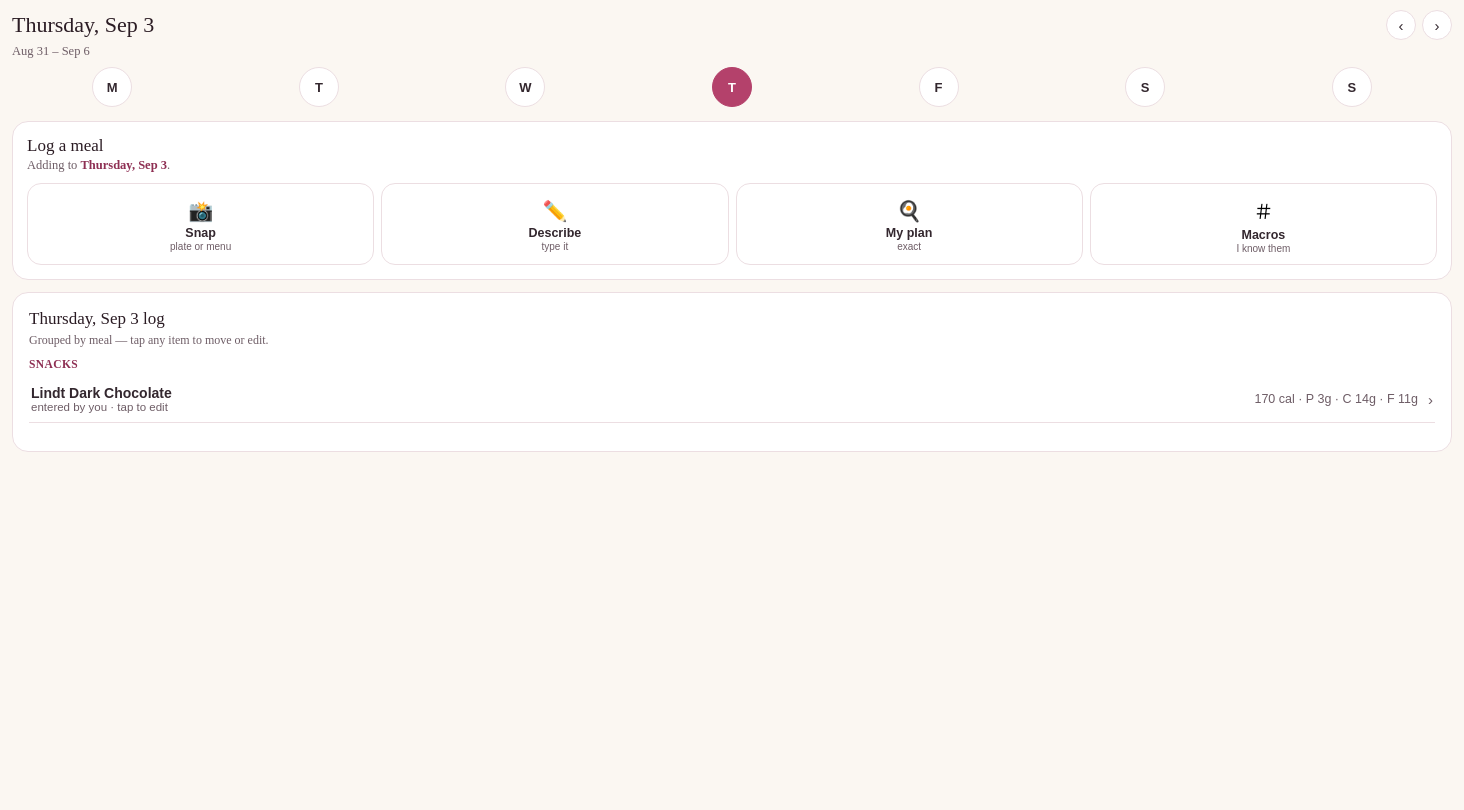
log save contract — edit Save › does not close the editor on a second tap while update is pending
The image size is (1464, 810).
Click the text "Lindt Dark Chocolate" at (101, 393), box [31,385,172,401]
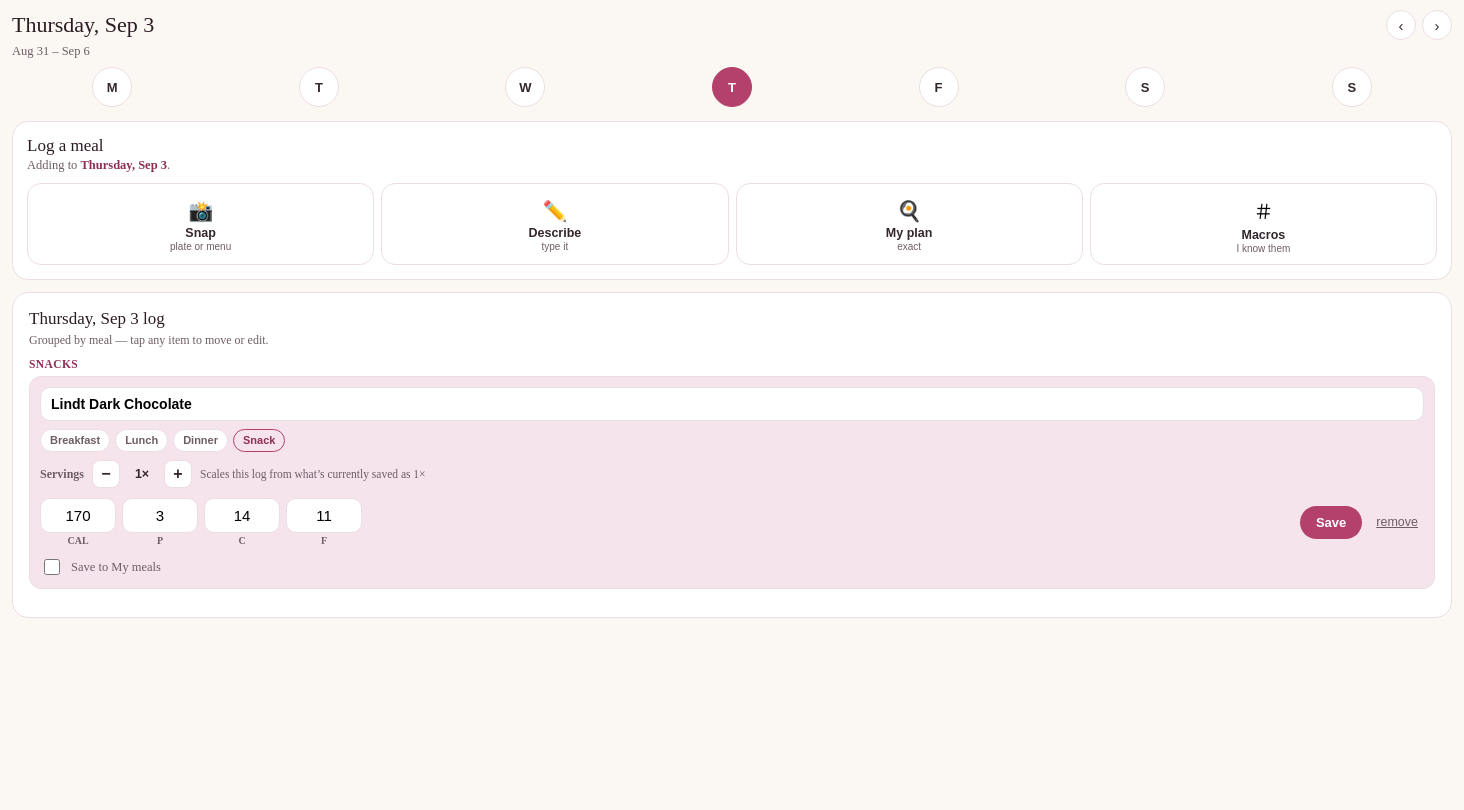
Click the button "Save" at (1331, 522), box [1300,506,1362,539]
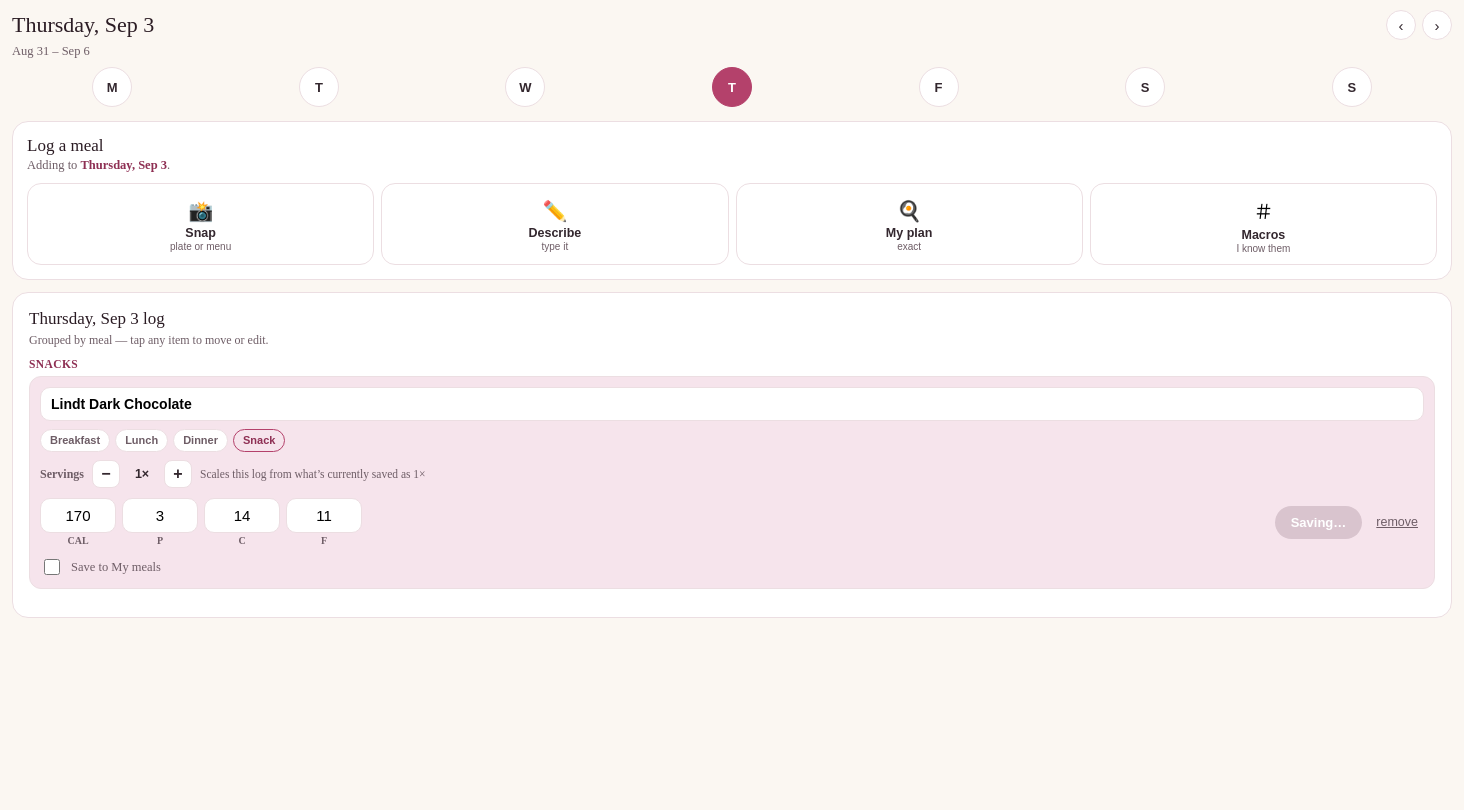
Click the button named "Save" at (1318, 522), box [1275,506,1362,539]
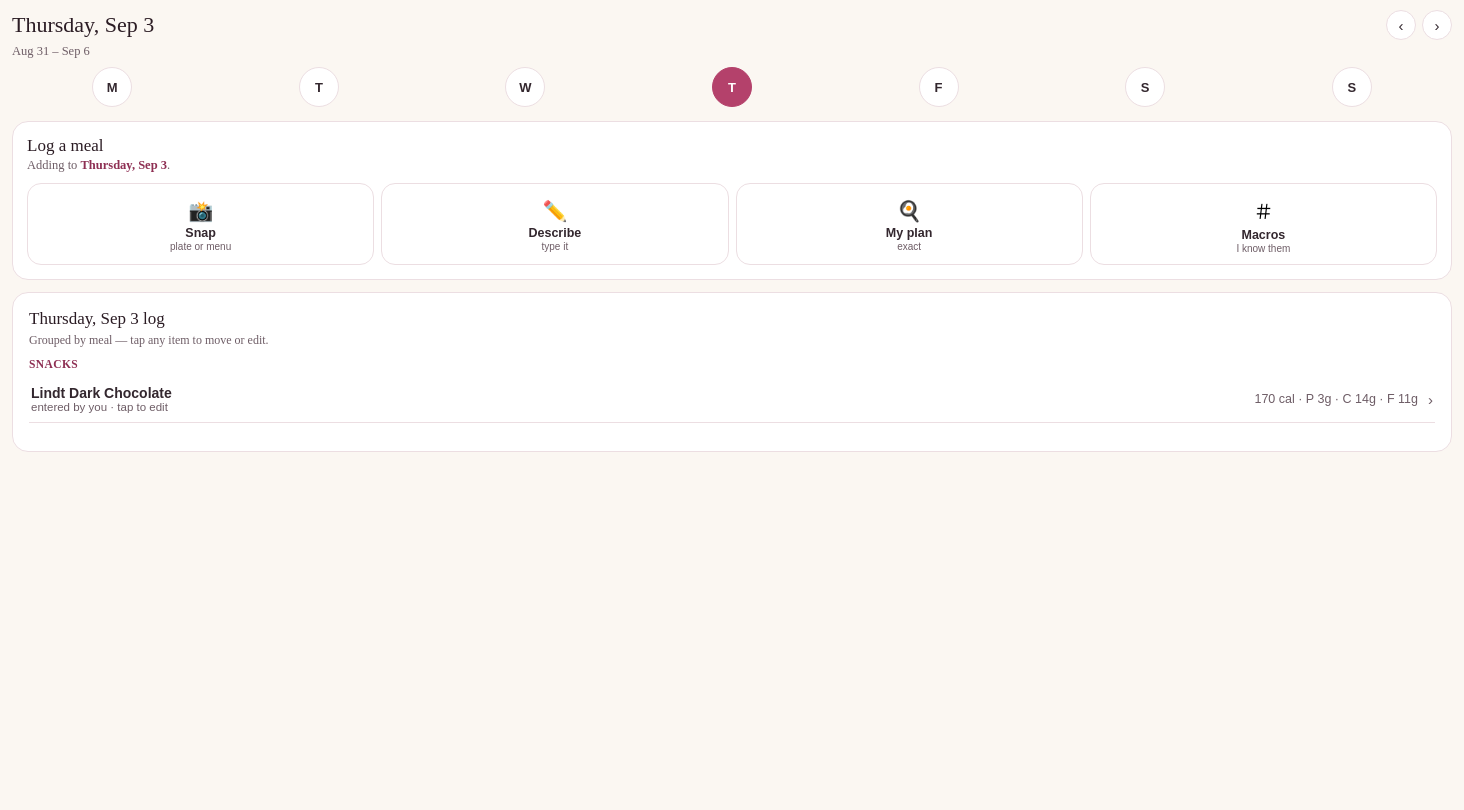
Now the button "Saving…" is gone
